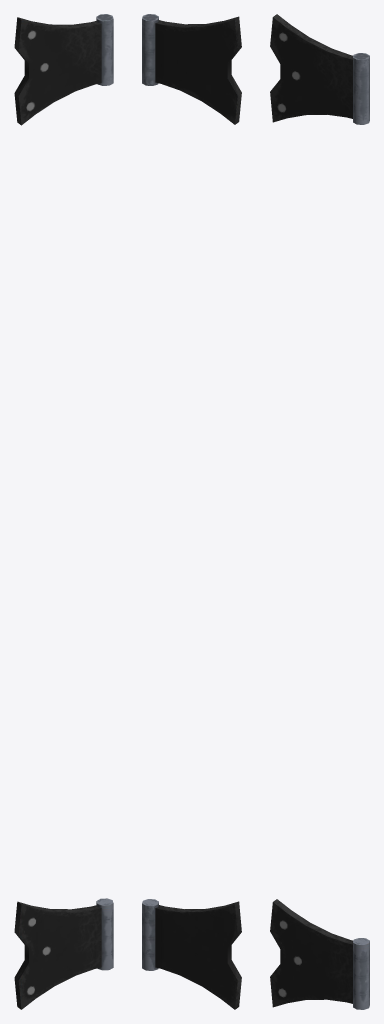
Rendered from Entrance 1 hinge left.fbx.
3 renders of one model, left to right at view 1: azimuth 30°, elevation 25°; view 2: azimuth 150°, elevation 25°; view 3: azimuth 330°, elevation 25°, orthographic.
Visible parts, largest first — view 1: Fence1_Post_Gate_Left; view 2: Fence1_Post_Gate_Left; view 3: Fence1_Post_Gate_Left.
Part boxes in pixels (bbox=[...]): Fence1_Post_Gate_Left: bbox=[14, 14, 113, 1009]; Fence1_Post_Gate_Left: bbox=[142, 14, 241, 1009]; Fence1_Post_Gate_Left: bbox=[270, 14, 369, 1009].
Bounding box in the file's own units: 7.27 × 71.26 × 1.15.
